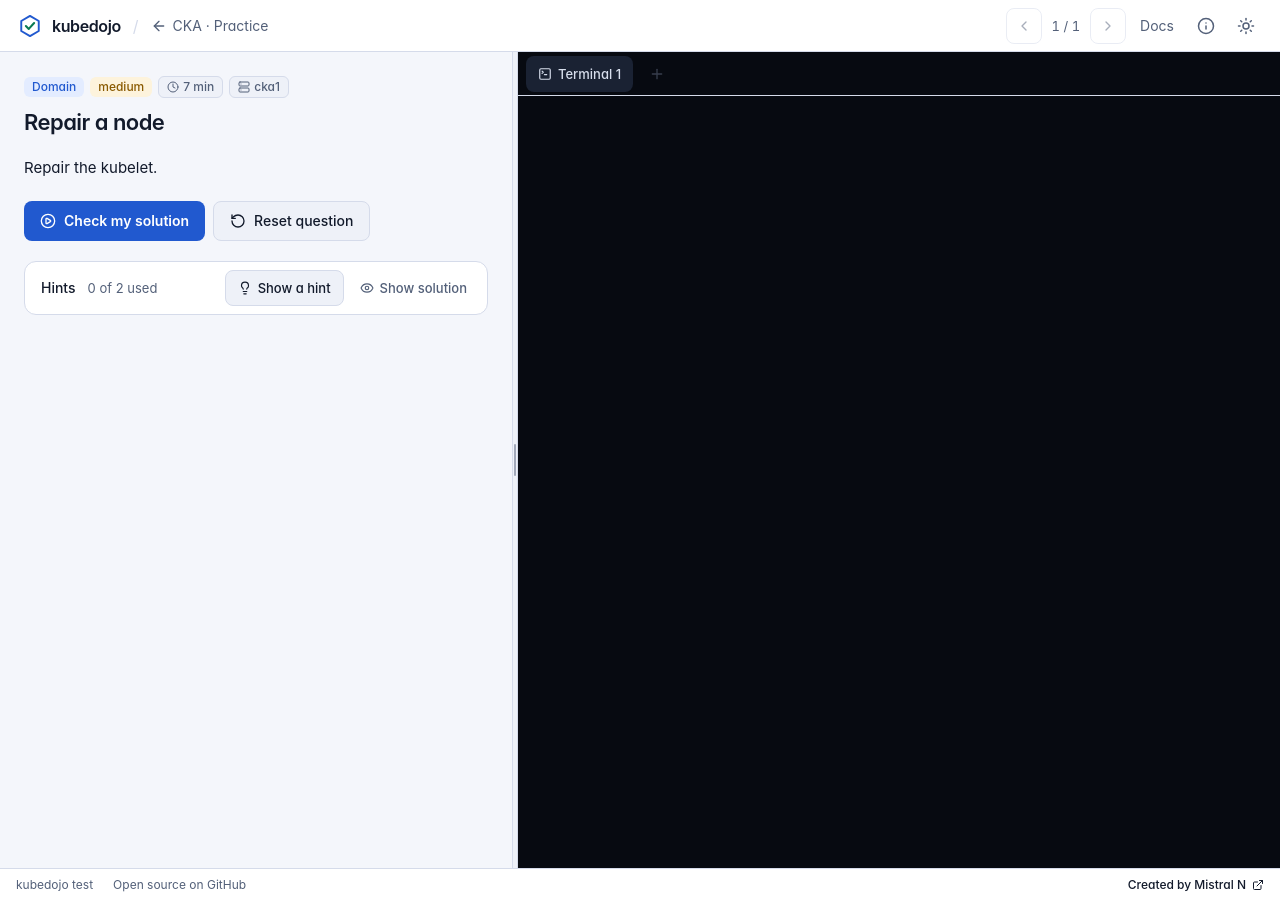
Scenario: PracticePage › asks before showing the solution of an unsolved task, and no more once every check passed
What coordinates should you click on to do the following:
click the button "Show solution"
I would click on:
 (413, 288)
Its box is [348,270,479,306].
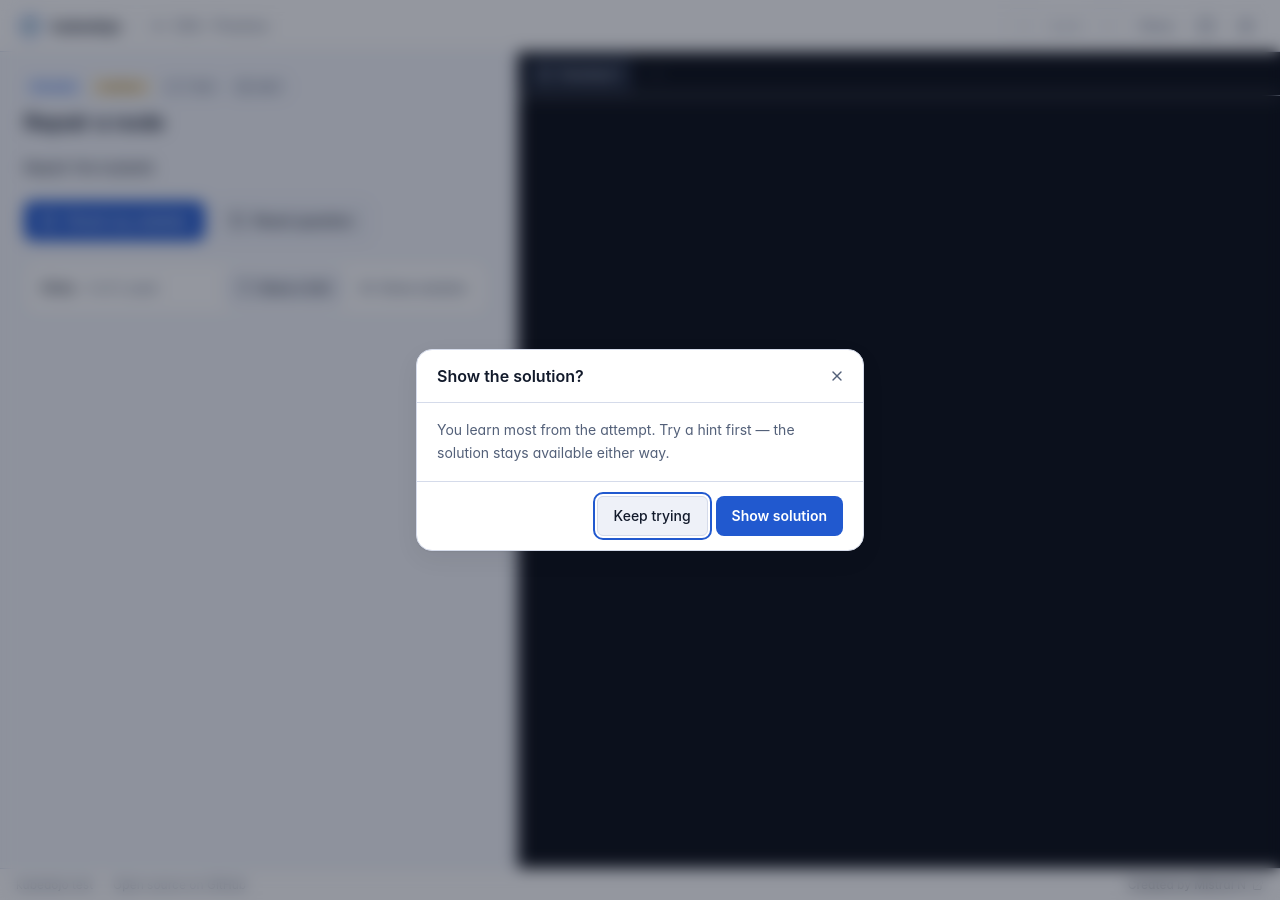
Now the text "You learn most from the attempt" is shown, box [437,421,795,461]
What coordinates should you click on to do the following:
click the button "Keep trying"
I would click on:
 (652, 516)
Its box is [597,496,708,536].
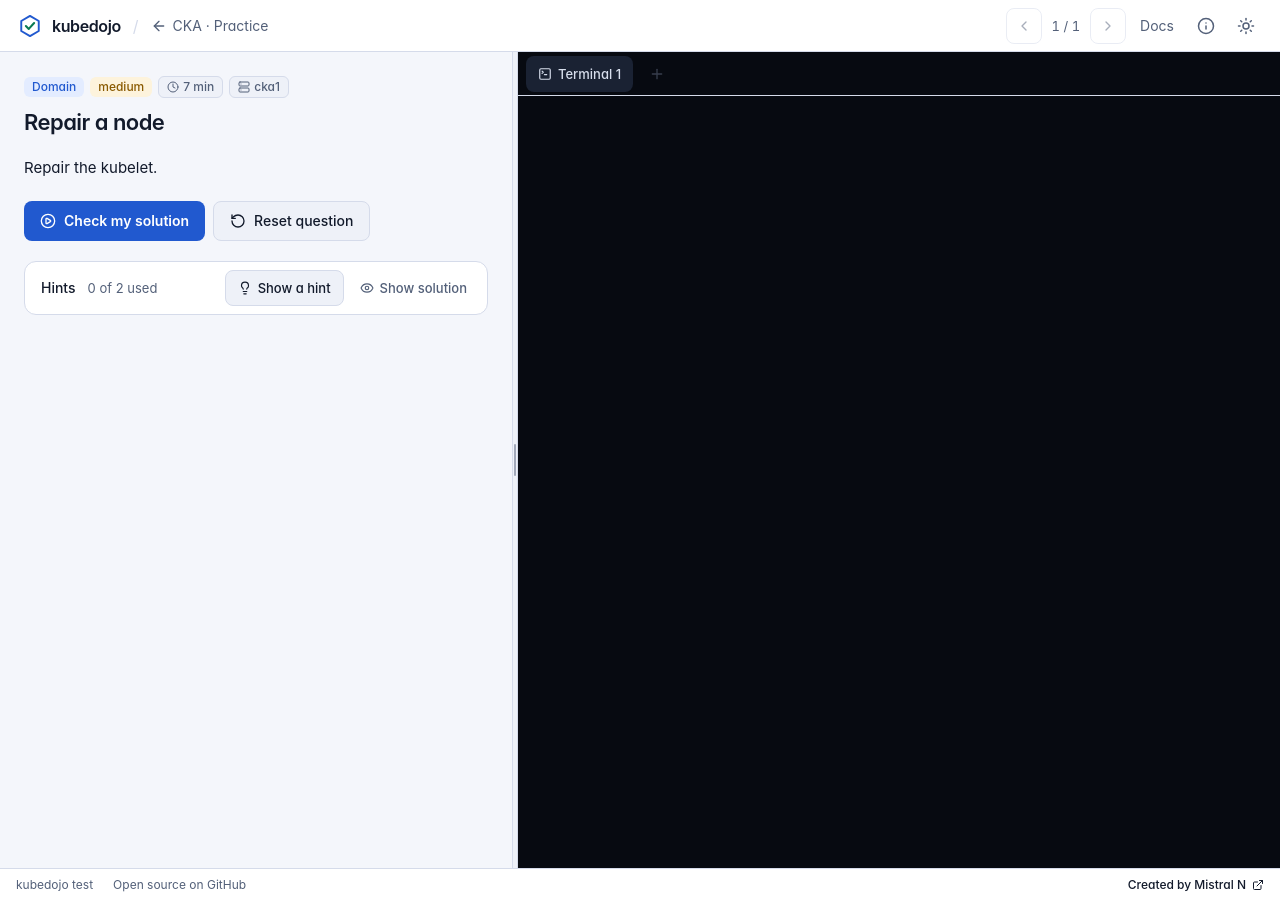
Expected: the text "Restart the kubelet." is not shown
What coordinates should you click on to do the following:
click the button "Check my solution"
I would click on:
 (115, 221)
Its box is [24,201,205,241].
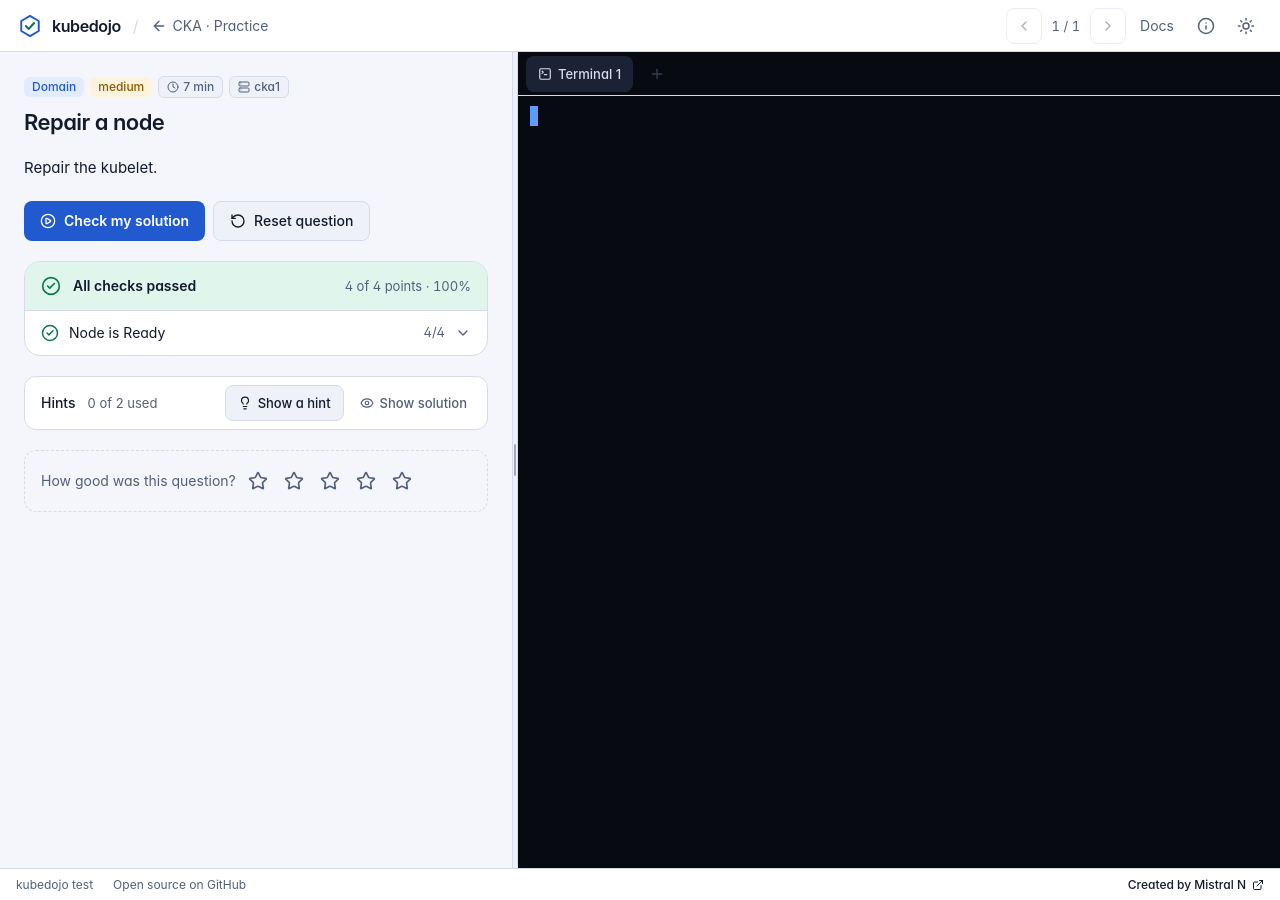
What coordinates should you click on to do the following:
click the button "Show solution"
I would click on:
 (413, 403)
Its box is [348,385,479,421].
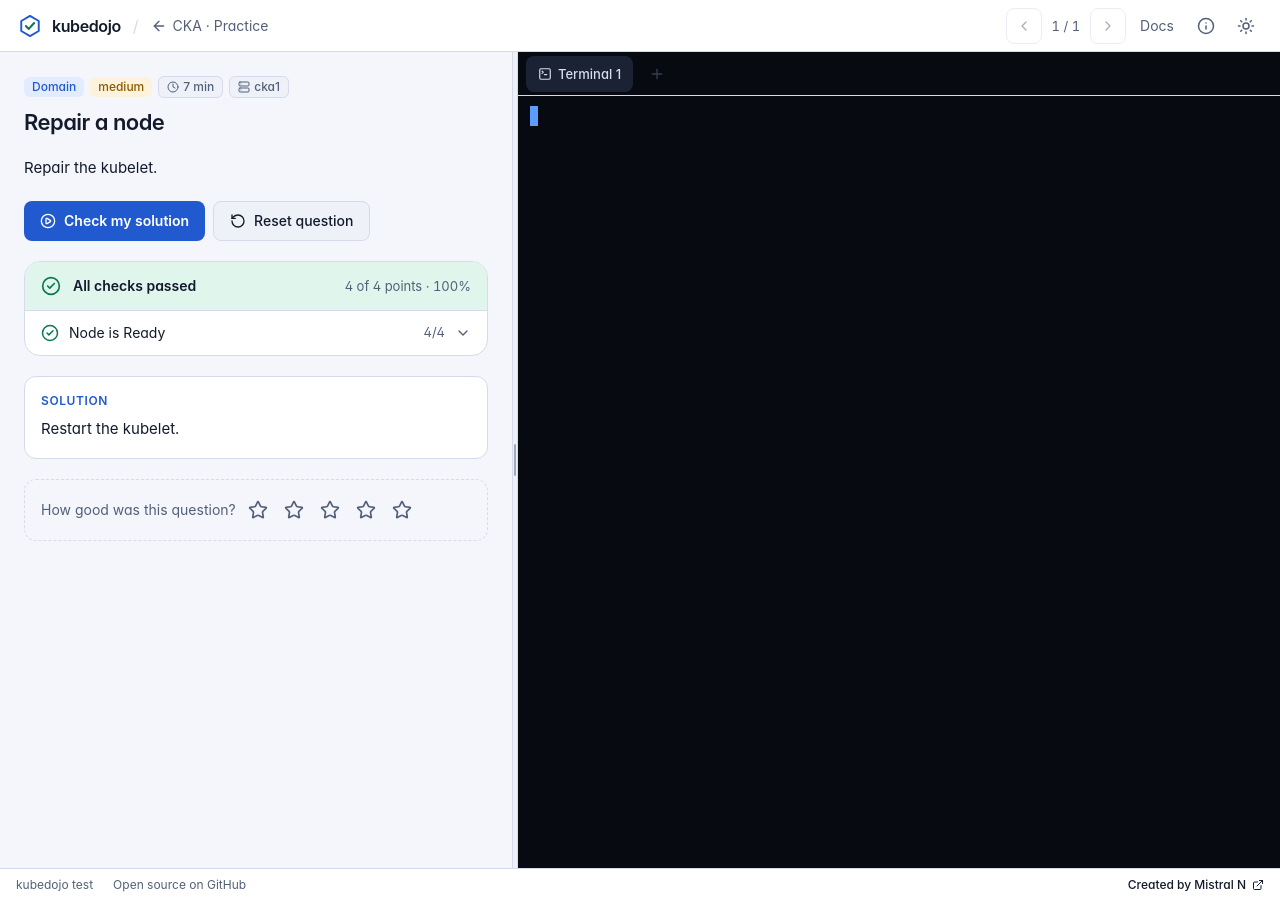
Now the text "Restart the kubelet." is shown, box [41,419,179,438]
